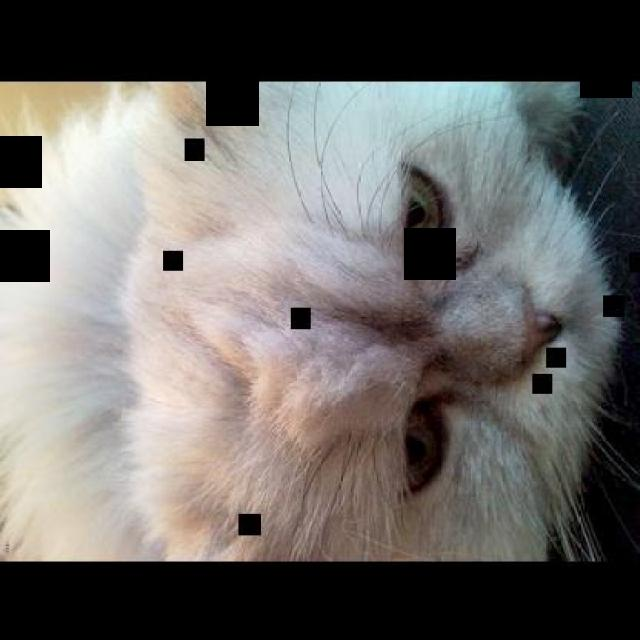unauthorized: (0, 78, 638, 561)
